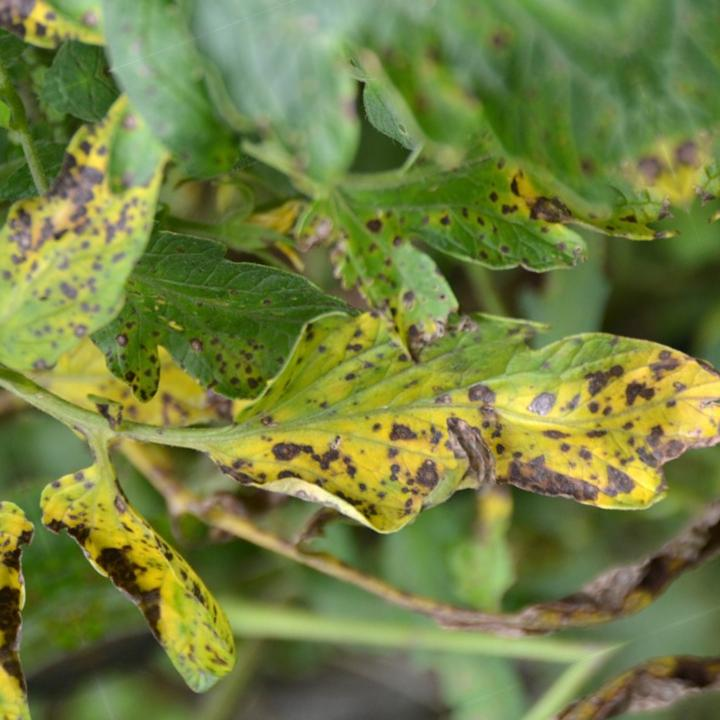Tomato Septoria leaf spot: (164, 191, 720, 685), (271, 43, 681, 367), (28, 422, 253, 720), (0, 85, 219, 378)
